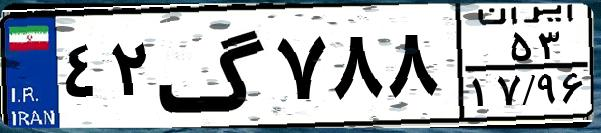1: (470, 70, 495, 125)
2: (110, 28, 156, 98)
3: (537, 27, 568, 80)
4: (57, 26, 110, 100)
5: (508, 27, 537, 80)
6: (560, 70, 590, 125)
7: (270, 28, 330, 110), (495, 70, 520, 125)
8: (385, 28, 445, 110), (330, 28, 385, 110)
9: (535, 70, 560, 125)
گ: (156, 12, 270, 120)
